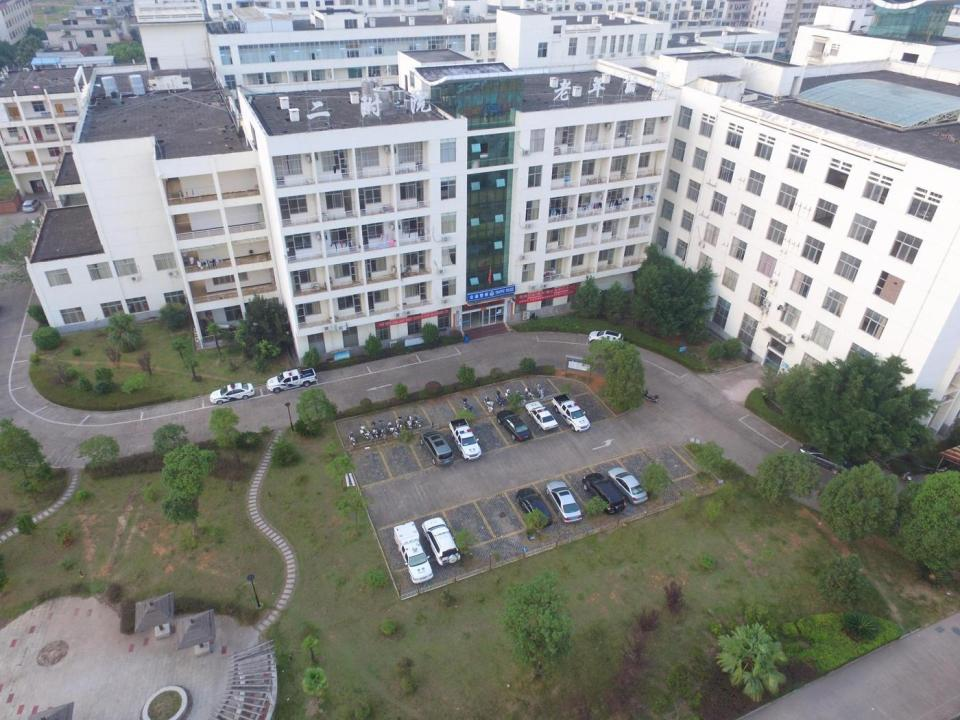car: (421, 517, 462, 566), (582, 472, 626, 514), (798, 443, 854, 474), (545, 480, 582, 523), (607, 467, 648, 505), (515, 488, 553, 528), (419, 428, 455, 466), (496, 410, 533, 442), (209, 382, 255, 405), (524, 400, 559, 430), (588, 330, 624, 348)
truck: (449, 418, 482, 460), (266, 367, 318, 393)
van: (394, 521, 434, 584), (552, 394, 590, 432), (22, 198, 41, 213)
